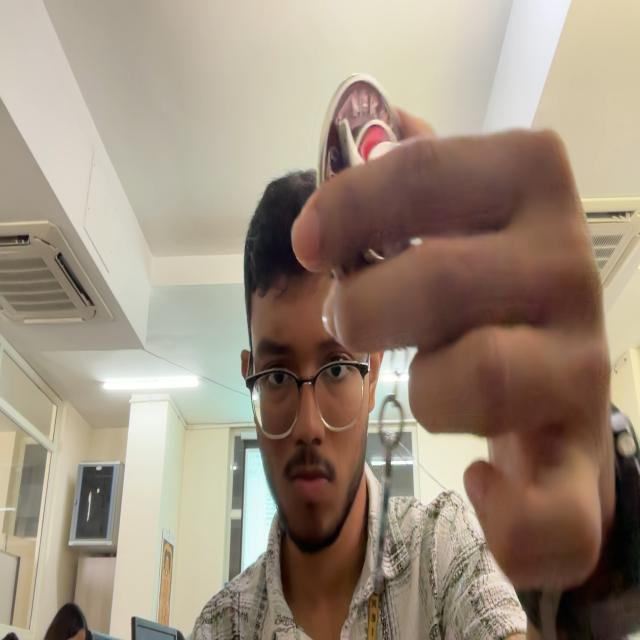dangerous: (317, 74, 404, 184), (372, 382, 404, 600), (353, 249, 384, 268)
